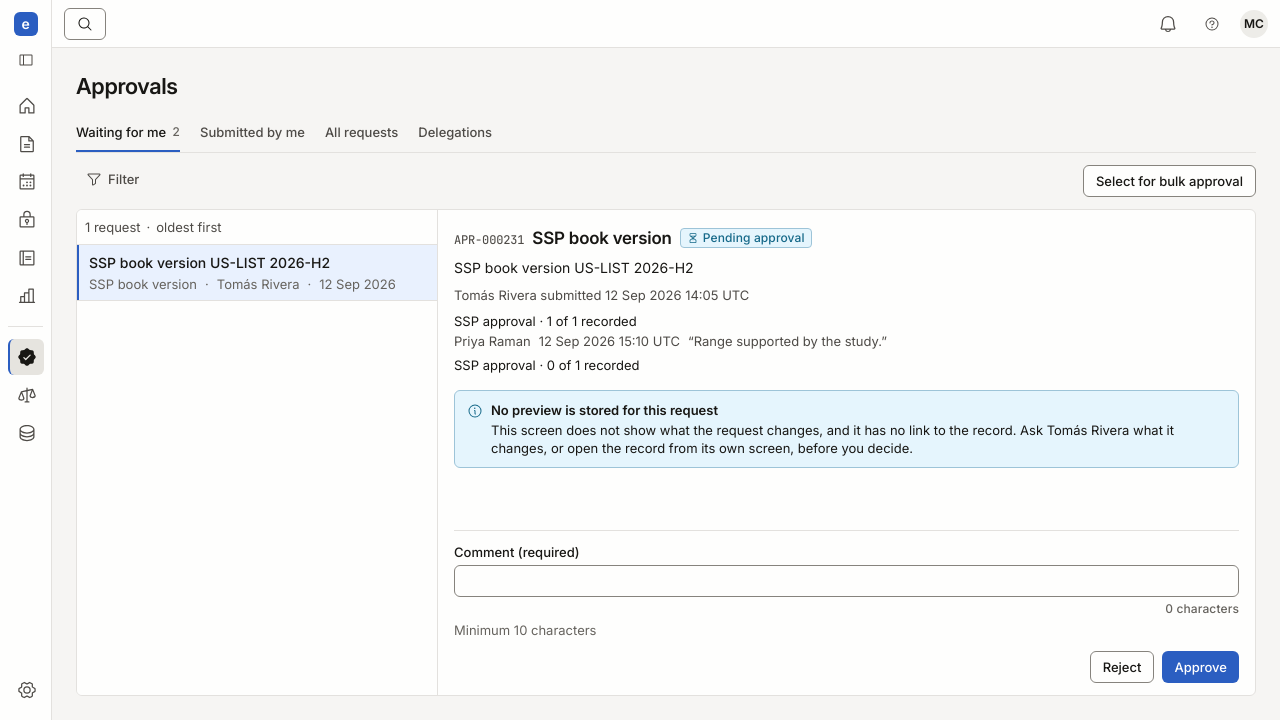
SF-12:request and REQ-UX-012 › Reject opens Reject <summary>? with initial focus Cancel and the Danger Reject request
Type "Range too wide for the observed sales." into the text box labelled "Comment (required)" at x=846, y=581, box [454, 565, 1239, 597]
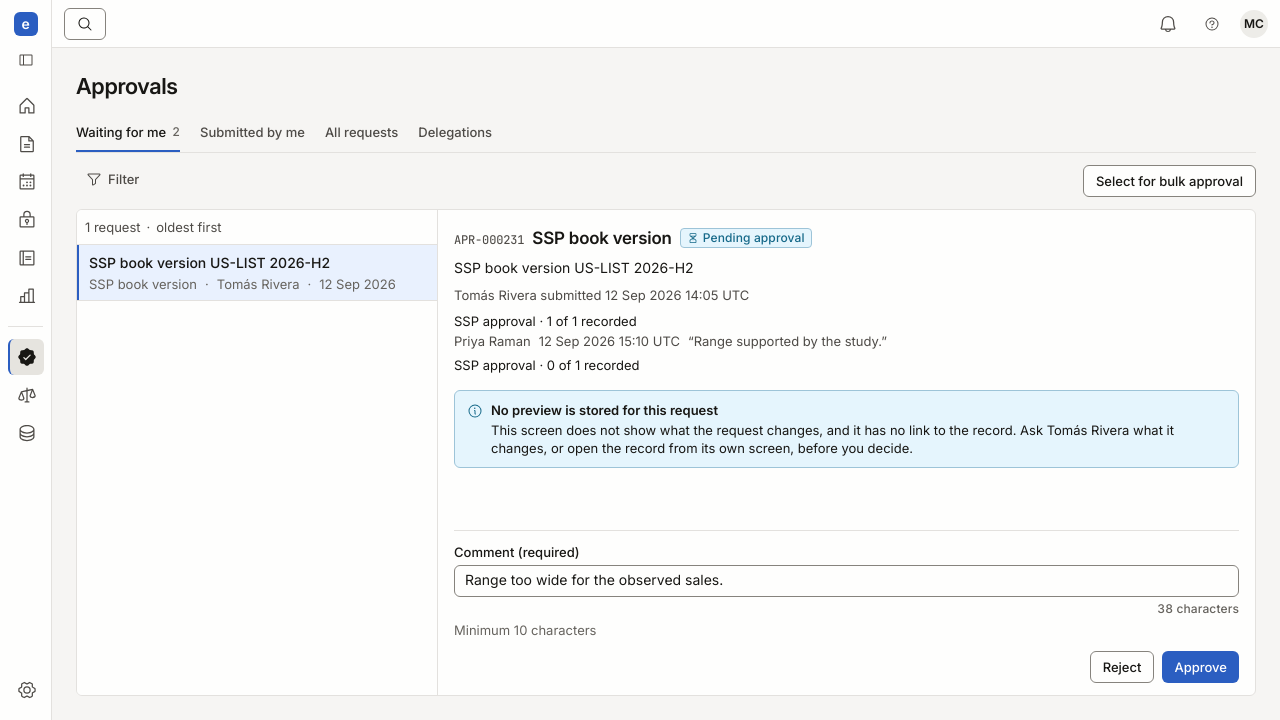
Click the button "Reject" at x=1122, y=667, box [1090, 651, 1154, 683]
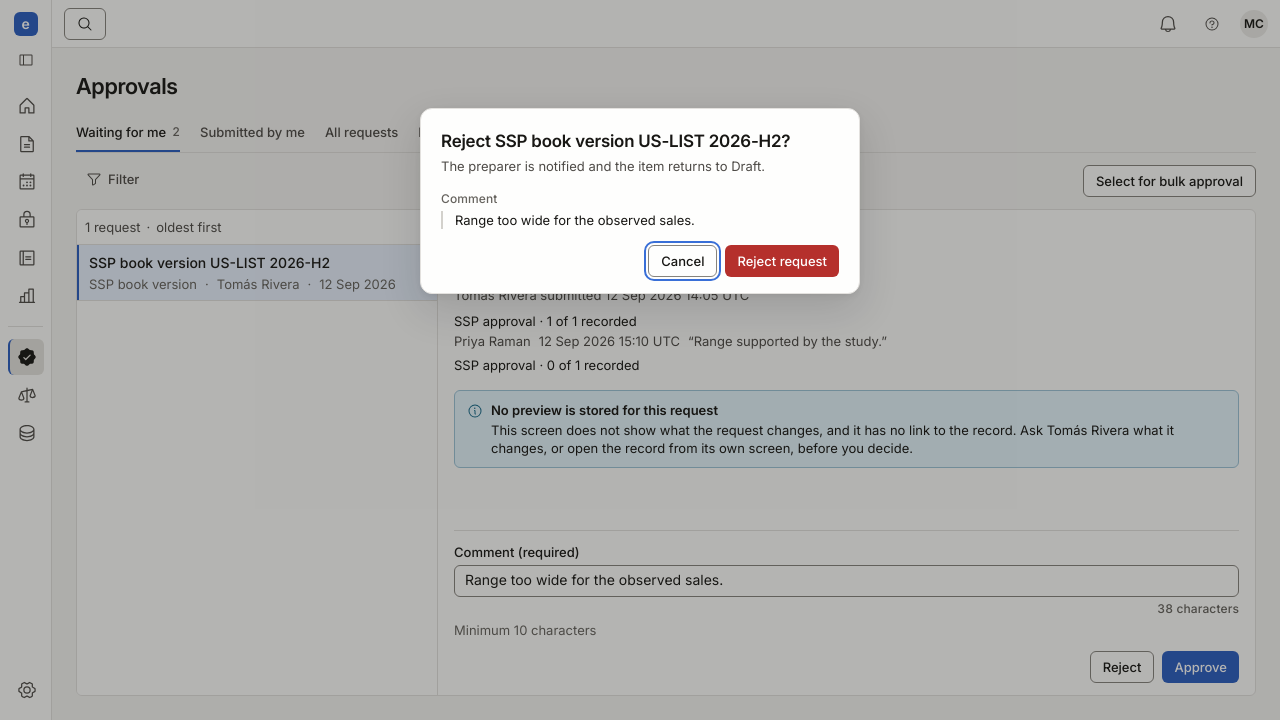
Now the text "The preparer is notified and the item returns to Draft." is shown, box [441, 158, 765, 174]
Now the text "Range too wide for the observed sales." is shown, box [441, 211, 839, 229]
Click the button "Reject request" at x=782, y=261, box [726, 245, 839, 277]
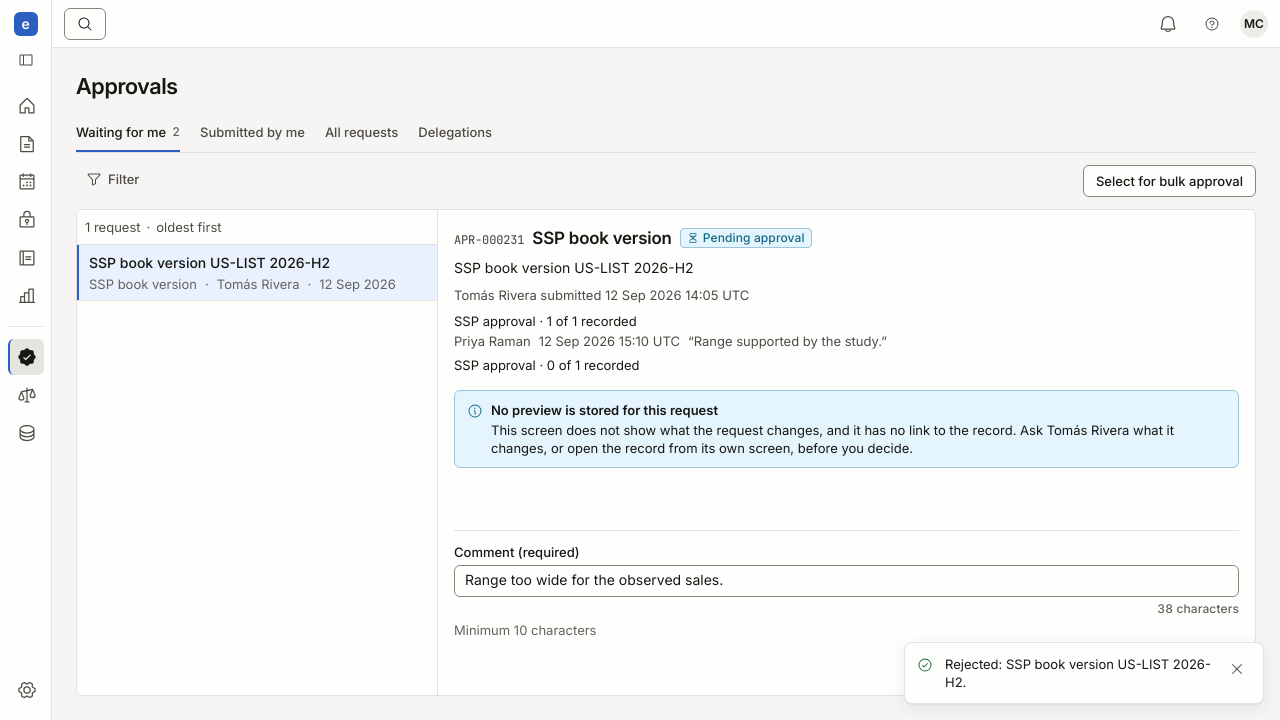
Now the text "Rejected: SSP book version US-LIST 2026-H2." is shown, box [945, 655, 1211, 691]
